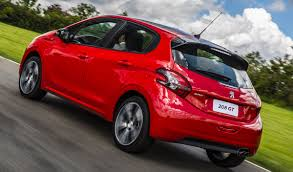car: (18, 13, 262, 172)
